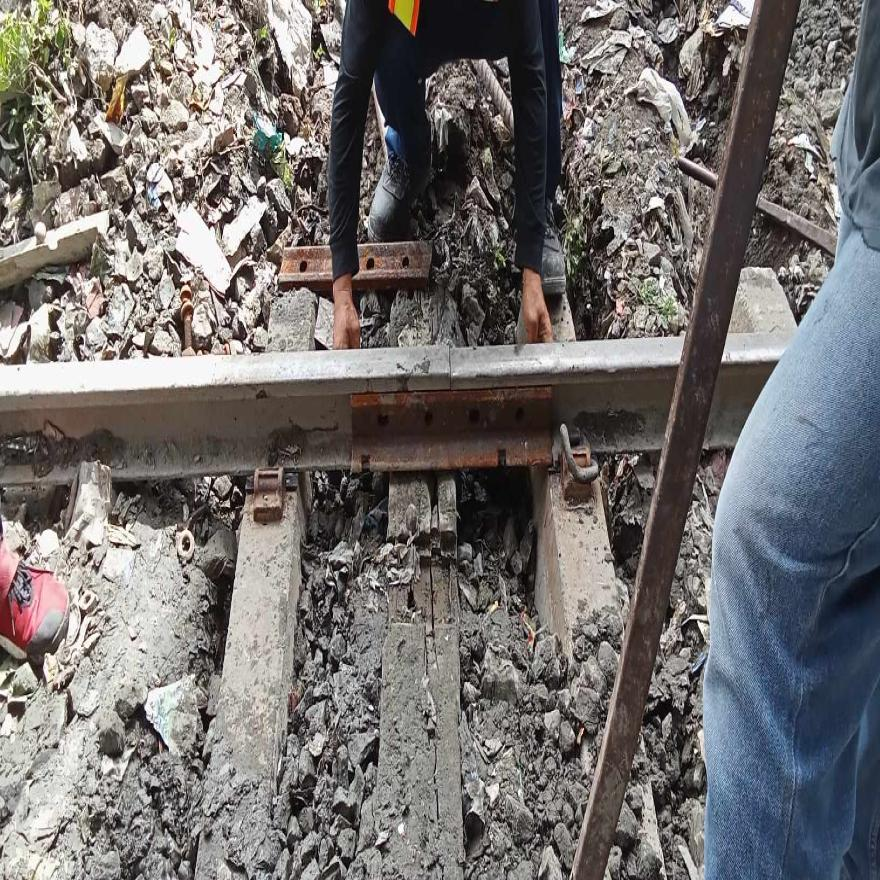railway-gap: (431, 326, 469, 413)
